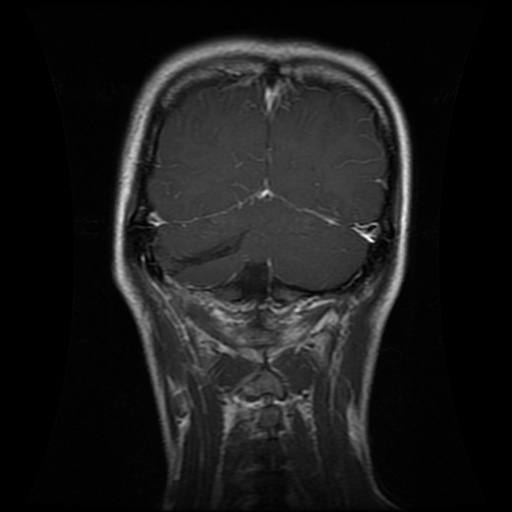glioma: (167, 230, 248, 273)
